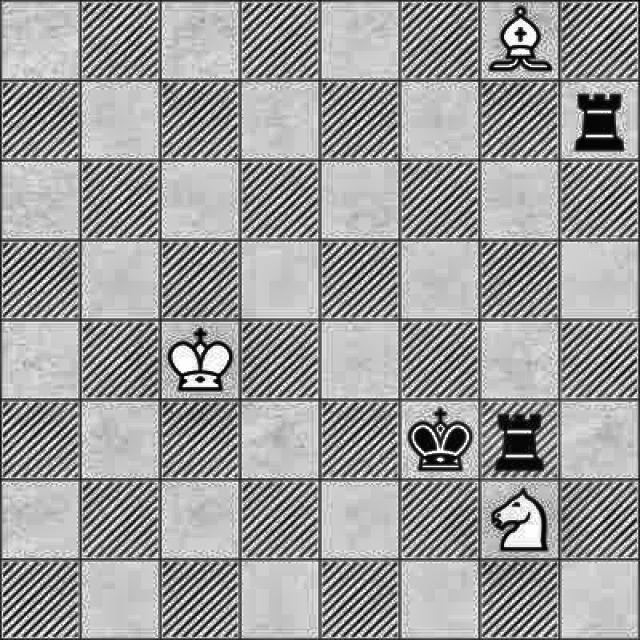black king: (401, 402, 476, 479)
black rook: (568, 81, 633, 155), (490, 412, 550, 471)
white bishop: (477, 0, 560, 77)
white king: (164, 320, 236, 398)
whiteknight: (477, 484, 554, 560)
